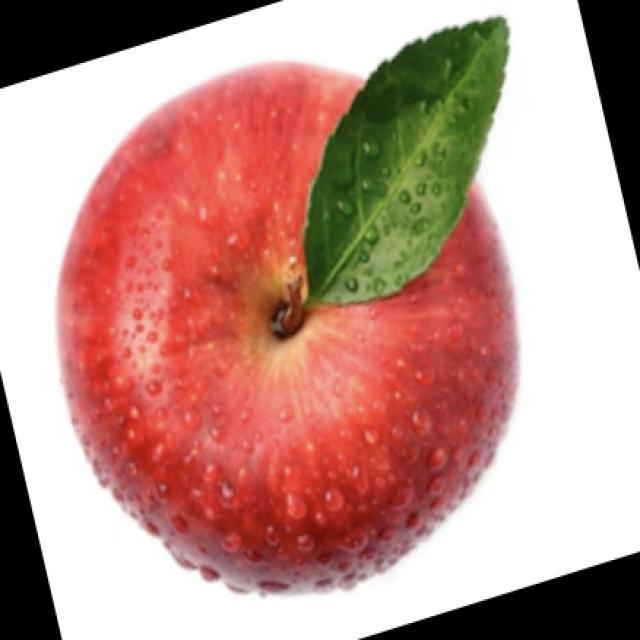Fresh Apple: (75, 68, 488, 580)
